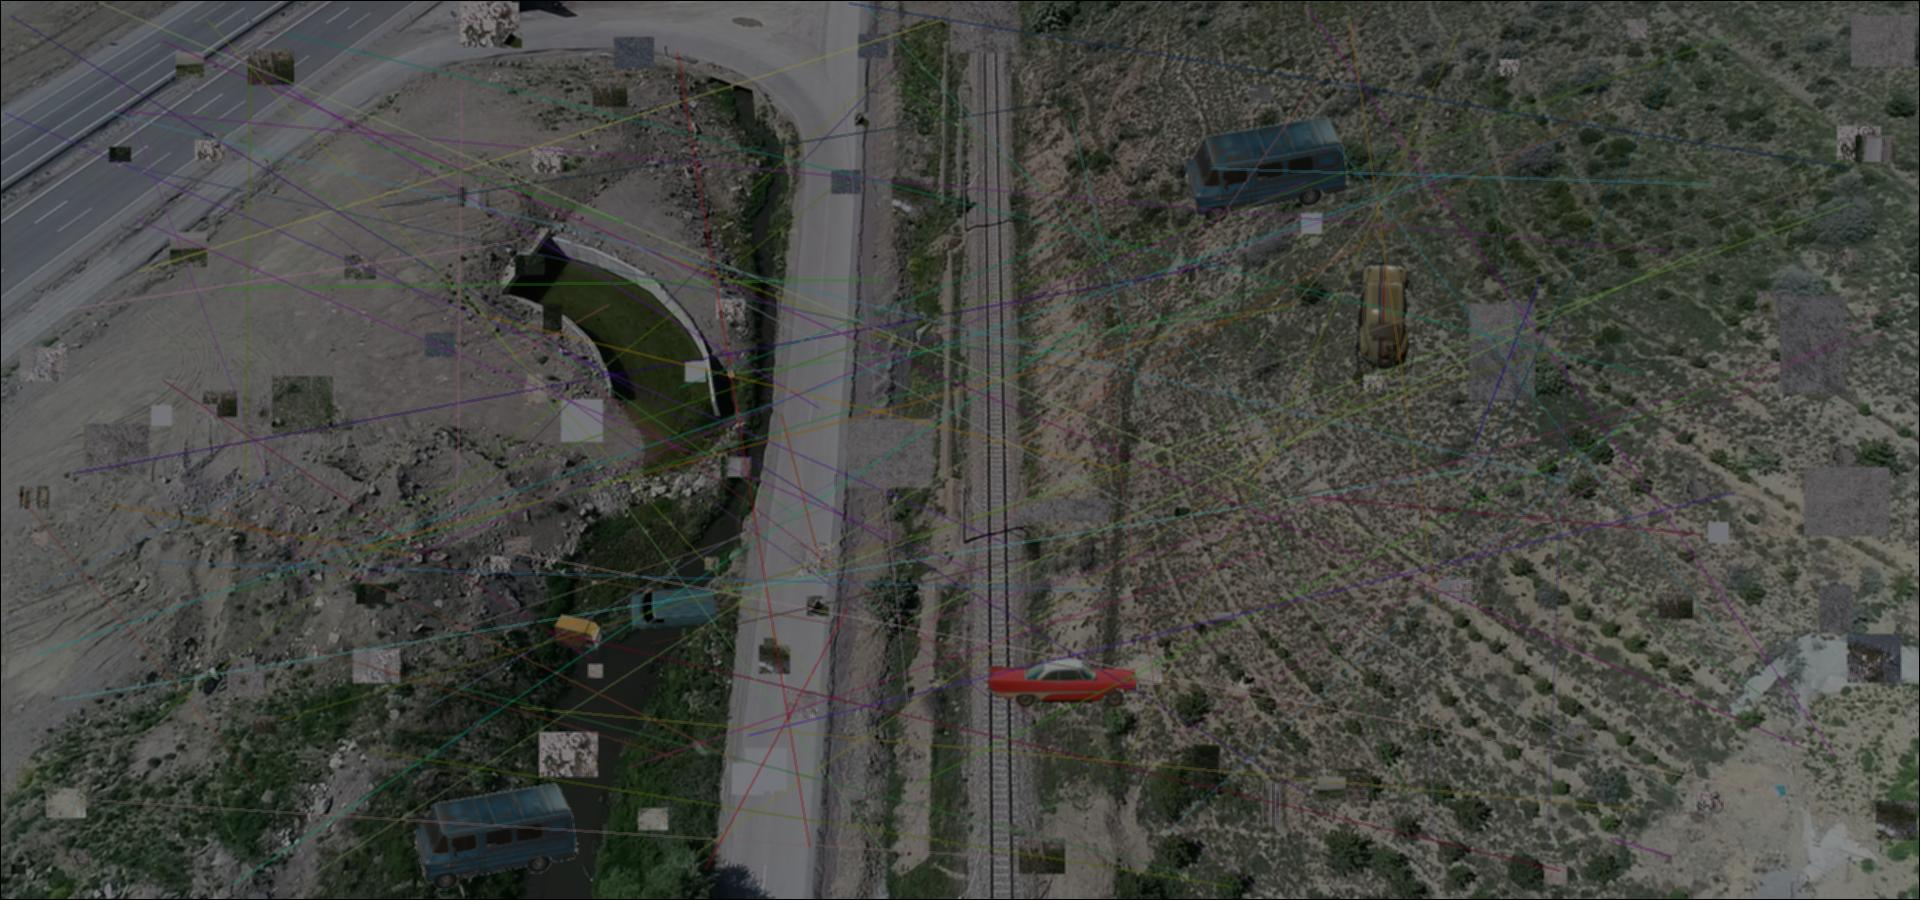arac: (408, 782, 590, 893), (1179, 116, 1360, 227), (982, 654, 1146, 711), (1354, 262, 1414, 369), (629, 587, 719, 632), (553, 613, 602, 656)
